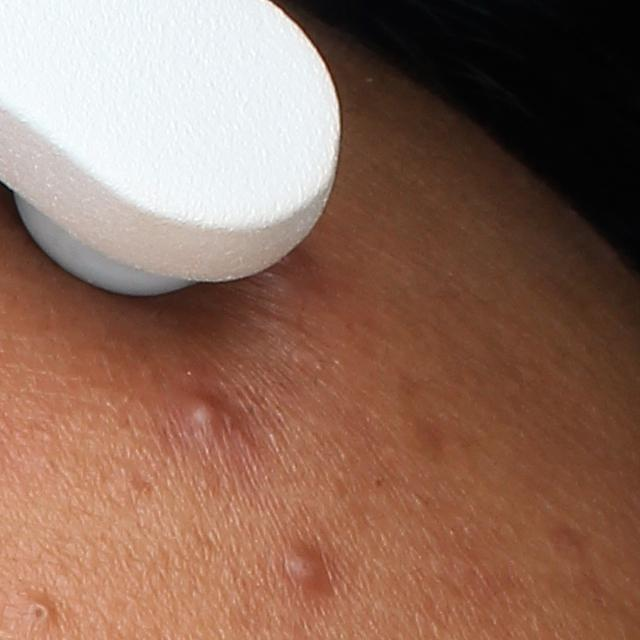comedo: (18, 595, 54, 638)
papule: (178, 397, 235, 452), (281, 551, 334, 590)
